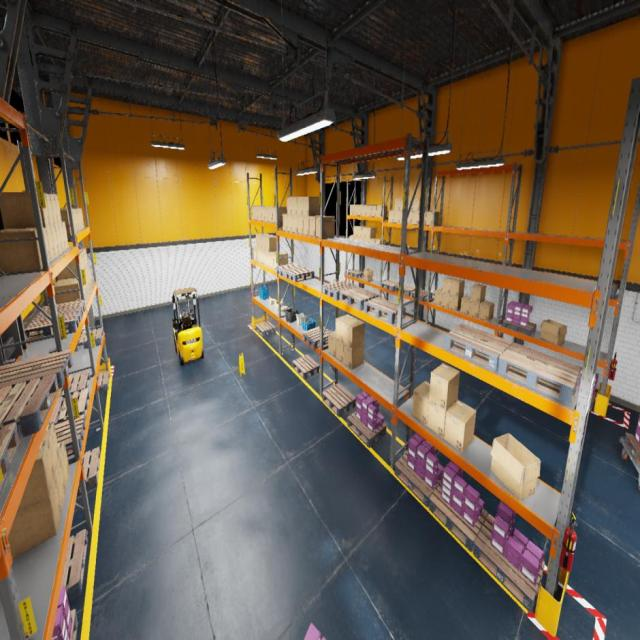box: (8, 477, 62, 558), (491, 433, 540, 500), (16, 439, 55, 513), (0, 229, 43, 274), (0, 227, 51, 263), (0, 192, 50, 228), (444, 400, 476, 452), (429, 363, 460, 410), (427, 399, 457, 438), (42, 423, 60, 474), (412, 381, 430, 426), (57, 253, 83, 280), (540, 320, 566, 346), (55, 277, 85, 298), (54, 280, 80, 304), (344, 318, 364, 349), (336, 314, 355, 343), (343, 343, 364, 369), (58, 441, 69, 489), (56, 458, 66, 509), (60, 208, 84, 228), (60, 208, 81, 230), (316, 216, 335, 238), (60, 210, 78, 232), (309, 216, 327, 236), (479, 300, 494, 322), (303, 197, 320, 216), (46, 226, 55, 261), (45, 193, 54, 226), (50, 193, 59, 225), (60, 210, 71, 236), (471, 284, 486, 303), (51, 225, 59, 258), (64, 210, 76, 232), (67, 209, 79, 231), (469, 301, 484, 318), (55, 224, 63, 254), (272, 207, 287, 223), (273, 252, 288, 268), (450, 279, 464, 296), (54, 195, 62, 223), (270, 251, 283, 268), (266, 235, 279, 252), (443, 277, 456, 294), (449, 295, 463, 310), (328, 331, 336, 357), (59, 223, 66, 252), (62, 221, 69, 250), (78, 249, 88, 268), (259, 234, 271, 249), (460, 296, 470, 314), (268, 206, 279, 222), (336, 338, 343, 363), (426, 212, 439, 225), (412, 198, 425, 211), (79, 250, 87, 271), (262, 236, 274, 250), (265, 206, 275, 222), (256, 234, 267, 248), (419, 211, 430, 225), (252, 206, 263, 219), (75, 208, 82, 228), (79, 252, 86, 272), (434, 288, 442, 305), (441, 293, 450, 308), (303, 216, 309, 235), (366, 227, 376, 238), (376, 205, 386, 216), (292, 197, 298, 215), (292, 215, 298, 233), (282, 214, 288, 232), (364, 269, 373, 281), (298, 215, 303, 234), (298, 197, 303, 215), (287, 214, 292, 232), (357, 227, 366, 237), (353, 226, 362, 236), (287, 197, 292, 214), (362, 226, 369, 238), (412, 212, 419, 224), (87, 268, 91, 287), (88, 265, 92, 284), (407, 211, 413, 223), (388, 210, 394, 222), (85, 272, 88, 294), (371, 205, 377, 216), (394, 199, 400, 210), (261, 206, 265, 222), (86, 270, 89, 290), (266, 251, 270, 266), (259, 249, 263, 264), (394, 211, 399, 223), (253, 246, 257, 260), (367, 205, 372, 216), (362, 205, 367, 216), (408, 198, 412, 211), (376, 239, 386, 244), (276, 300, 284, 306), (258, 206, 261, 221), (281, 306, 288, 312), (255, 206, 258, 220), (263, 250, 266, 264), (358, 205, 362, 215), (354, 205, 358, 215), (350, 205, 354, 215), (256, 248, 259, 261), (400, 198, 403, 211), (84, 285, 87, 297), (276, 304, 282, 310), (399, 211, 402, 223), (371, 238, 378, 243), (270, 299, 276, 304), (274, 301, 280, 306), (352, 236, 357, 240), (366, 238, 370, 242), (362, 238, 366, 241), (358, 238, 362, 241), (349, 236, 353, 239)
forklift: (172, 287, 204, 365)
pallets: (473, 514, 545, 613), (497, 343, 581, 405), (429, 482, 487, 552), (0, 350, 73, 405), (0, 374, 59, 437), (445, 323, 512, 371), (394, 451, 442, 506), (61, 529, 87, 602), (25, 309, 81, 341), (48, 388, 90, 424), (0, 422, 20, 495), (347, 412, 386, 448), (54, 414, 86, 456), (322, 383, 355, 417), (58, 370, 90, 405), (364, 297, 405, 324), (77, 447, 100, 495), (35, 300, 85, 320), (340, 286, 380, 310), (578, 277, 618, 297), (322, 280, 358, 300), (74, 328, 103, 352), (302, 326, 332, 348), (292, 356, 319, 380), (623, 433, 640, 470), (502, 319, 536, 336), (285, 268, 314, 282), (94, 370, 110, 395), (275, 264, 303, 277), (410, 289, 432, 302), (255, 322, 275, 336), (70, 609, 78, 639), (396, 284, 415, 296), (381, 280, 399, 290), (544, 272, 578, 277), (408, 320, 431, 326), (348, 270, 363, 278), (590, 392, 596, 410), (405, 314, 413, 327), (435, 327, 447, 333)
